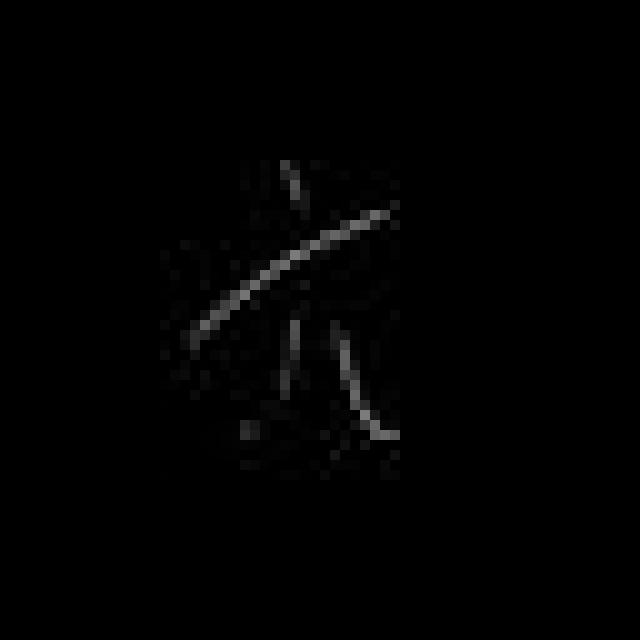6 -six-: (172, 151, 408, 460)
